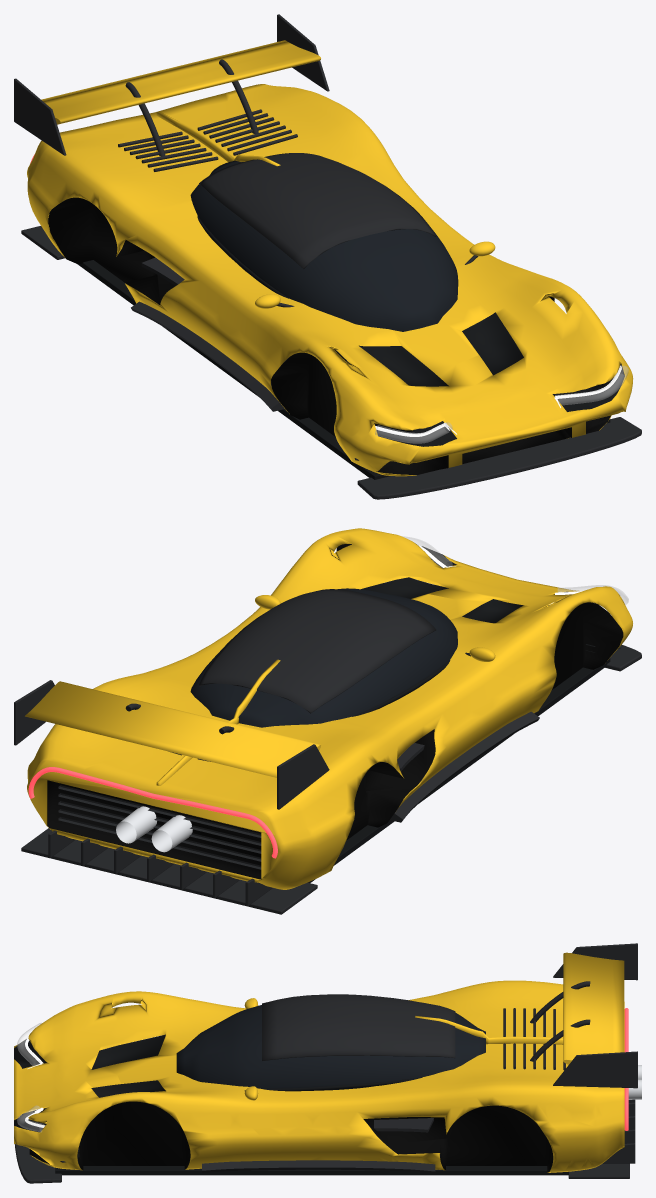
The model's file is volcano_p1.glb.
3 views of the same model, one above another, from view 1: azimuth 30°, elevation 25°; view 2: azimuth 150°, elevation 25°; view 3: azimuth 270°, elevation 25° (orthographic). The views are drawn at different scales.
Parts seen in each view (by area): view 1: Body, Canopy, Roof, Wing, Splitter, Floor, Sill-1, endplate-1, endplate1, Fin, lens1, lens-1; view 2: Body, Roof, Wing, Canopy, DiffPlate, Sill-1, endplate-1, Floor, endplate1, exh-1, exh1, rbar4 (+8 smaller); view 3: Body, Roof, Canopy, Wing, Floor, endplate1, Sill1, endplate-1, Splitter, Fin, DiffPlate, Strake1 (+4 smaller).
Part boxes in pixels (x1,y1,x2,y2): Body: [27, 84, 633, 476]; Canopy: [190, 160, 458, 331]; Roof: [199, 153, 436, 268]; Wing: [41, 40, 320, 124]; Splitter: [357, 417, 641, 499]; Floor: [77, 260, 610, 479]; Sill-1: [131, 301, 284, 411]; endplate-1: [14, 78, 66, 155]; endplate1: [277, 14, 329, 91]; Fin: [156, 111, 280, 166]; lens1: [558, 366, 628, 404]; lens-1: [375, 422, 452, 443]; Body: [27, 528, 632, 889]; Roof: [199, 589, 436, 713]; Wing: [25, 681, 320, 777]; Canopy: [190, 588, 457, 727]; DiffPlate: [21, 828, 317, 914]; Sill-1: [390, 711, 539, 822]; endplate-1: [277, 744, 329, 809]; Floor: [308, 658, 610, 882]; endplate1: [14, 680, 54, 745]; exh-1: [151, 815, 192, 852]; exh1: [116, 806, 156, 843]; rbar4: [58, 785, 261, 837]; Body: [14, 980, 624, 1172]; Roof: [262, 994, 455, 1061]; Canopy: [176, 1005, 485, 1090]; Wing: [563, 952, 624, 1064]; Floor: [55, 1151, 568, 1175]; endplate1: [553, 1051, 637, 1088]; Sill1: [202, 1160, 435, 1173]; endplate-1: [553, 943, 637, 980]; Splitter: [14, 1144, 61, 1183]; Fin: [415, 1015, 563, 1044]; DiffPlate: [568, 1163, 629, 1178]; Strake1: [374, 1118, 433, 1132].
Bounding box in the file's own units: 2.22 × 1.08 × 4.71.
